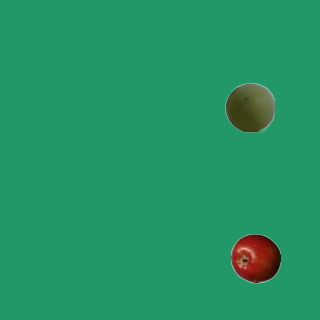Apple Braeburn: (230, 233, 280, 283)
Grape White 4: (224, 82, 274, 132)
